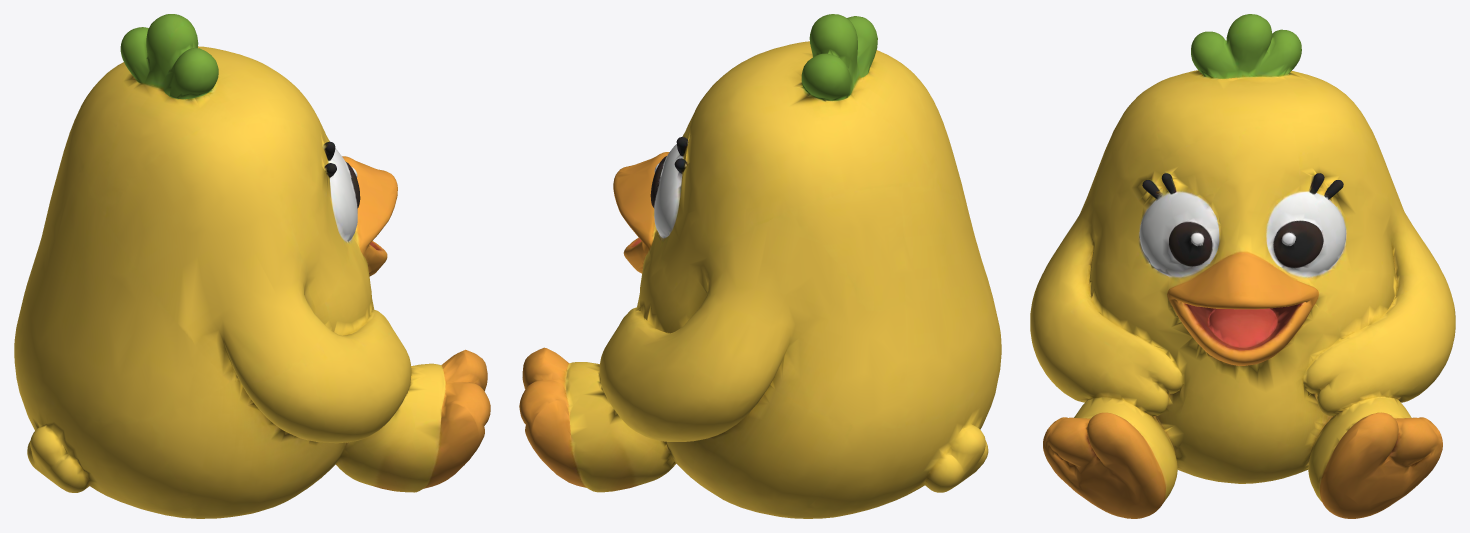
Rendered from woni-plush.glb.
The picture shows the model from 3 angles, left to right: view 1: azimuth 30°, elevation 25°; view 2: azimuth 150°, elevation 25°; view 3: azimuth 270°, elevation 25°; orthographic projection. The views are drawn at different scales.
Visible parts, largest first — view 1: tripo_node_646e3d74-bac7-47b7-a2a1-5f00398a8993; view 2: tripo_node_646e3d74-bac7-47b7-a2a1-5f00398a8993; view 3: tripo_node_646e3d74-bac7-47b7-a2a1-5f00398a8993.
Boxes of the visible parts, box(x1,y1,x2,y2) form: tripo_node_646e3d74-bac7-47b7-a2a1-5f00398a8993: box(14, 14, 490, 518); tripo_node_646e3d74-bac7-47b7-a2a1-5f00398a8993: box(519, 14, 1001, 518); tripo_node_646e3d74-bac7-47b7-a2a1-5f00398a8993: box(1030, 14, 1455, 518).
Bounding box in the file's own units: 0.8719 × 0.9993 × 0.9216.
1 material, 1 textured.
